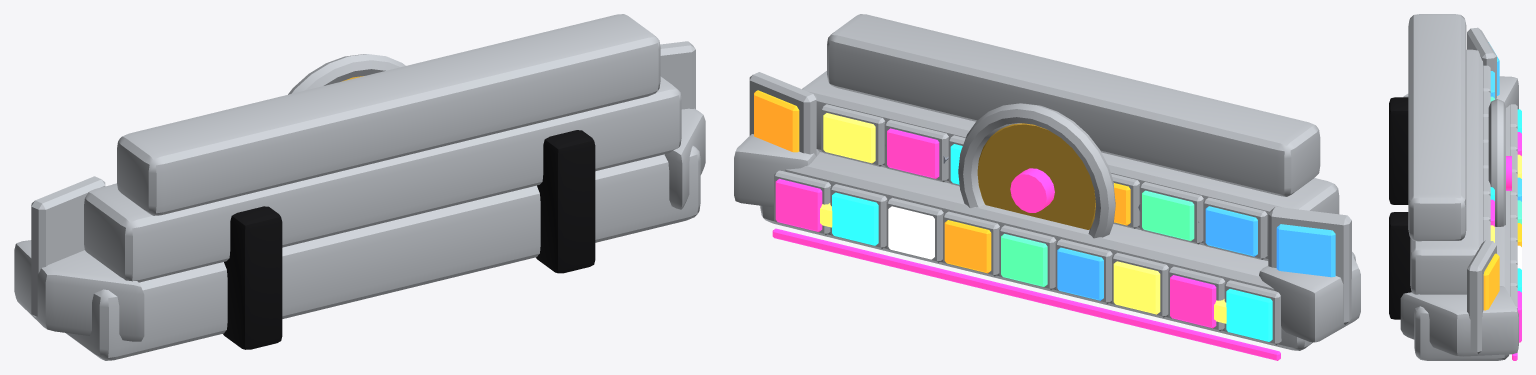
File: fb_ornate_steps.glb
3 renders of one model, left to right at view 1: azimuth 30°, elevation 25°; view 2: azimuth 150°, elevation 25°; view 3: azimuth 270°, elevation 25°, orthographic. The views are drawn at different scales.
Parts seen in each view (by area): view 1: chrome, plastic_black; view 2: chrome, lamp_pink, paint_gold, lamp_blue, lamp_orange, lamp_amber, lamp_cyan, lamp_green, lamp_white; view 3: chrome, plastic_black, lamp_orange, lamp_pink, lamp_blue, lamp_cyan, lamp_amber, lamp_green.
Part boxes in pixels (<box>): chrome: <box>14,14,705,360</box>; plastic_black: <box>223,130,595,349</box>; chrome: <box>734,14,1360,350</box>; lamp_pink: <box>772,128,1280,360</box>; paint_gold: <box>977,123,1095,229</box>; lamp_blue: <box>1057,206,1335,300</box>; lamp_orange: <box>754,90,1130,273</box>; lamp_amber: <box>820,113,1226,323</box>; lamp_cyan: <box>832,144,1272,341</box>; lamp_green: <box>1001,190,1194,286</box>; lamp_white: <box>888,206,934,259</box>; chrome: <box>1400,14,1518,360</box>; plastic_black: <box>1389,97,1411,319</box>; lamp_orange: <box>1483,223,1521,310</box>; lamp_pink: <box>1490,132,1521,360</box>; lamp_blue: <box>1488,42,1521,201</box>; lamp_cyan: <box>1490,109,1521,292</box>; lamp_amber: <box>1490,154,1521,242</box>; lamp_green: <box>1490,96,1521,224</box>.
Size of the model in its own units: 2.96 by 0.88 by 0.687.
